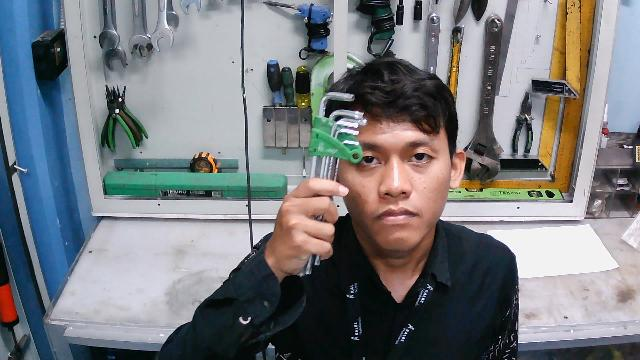kunci_l_bintang: (293, 87, 368, 283)
